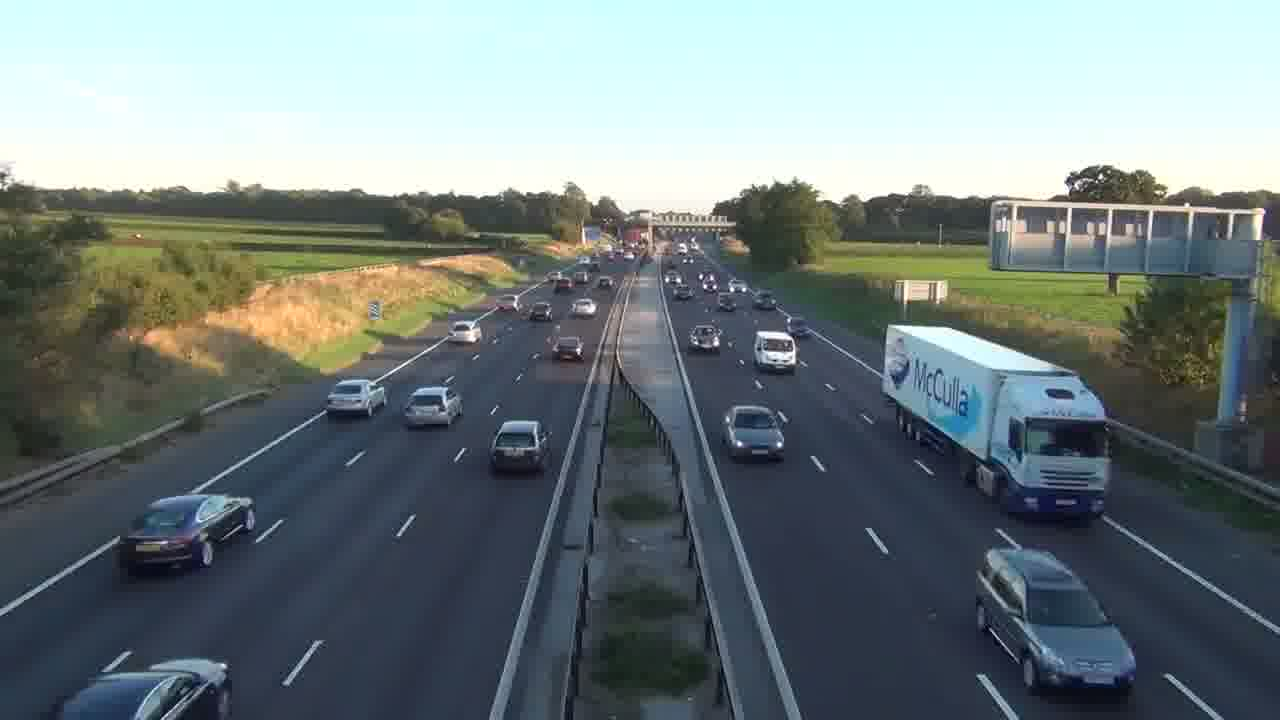car: (974, 543, 1137, 698), (57, 656, 234, 719), (721, 404, 787, 462), (489, 418, 551, 475), (402, 385, 463, 428), (325, 378, 386, 418), (688, 322, 721, 353), (554, 335, 584, 363), (571, 298, 598, 318)
truck: (880, 322, 1111, 520), (974, 543, 1137, 698), (117, 492, 257, 578)
